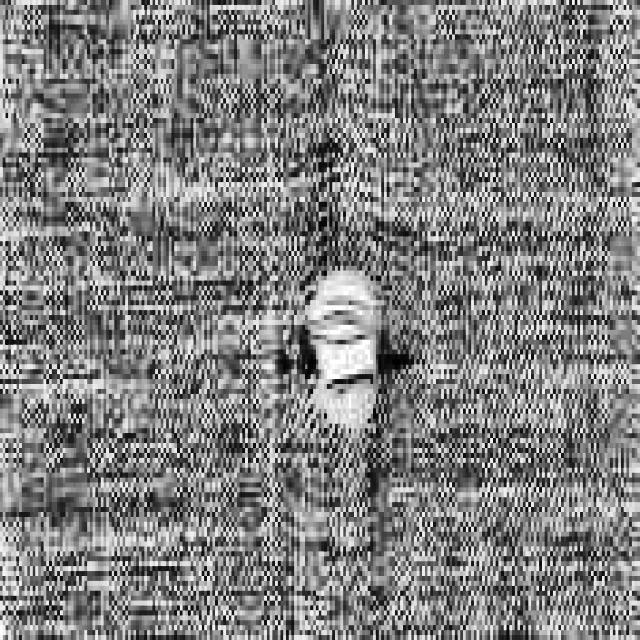cut: (293, 236, 407, 444)
